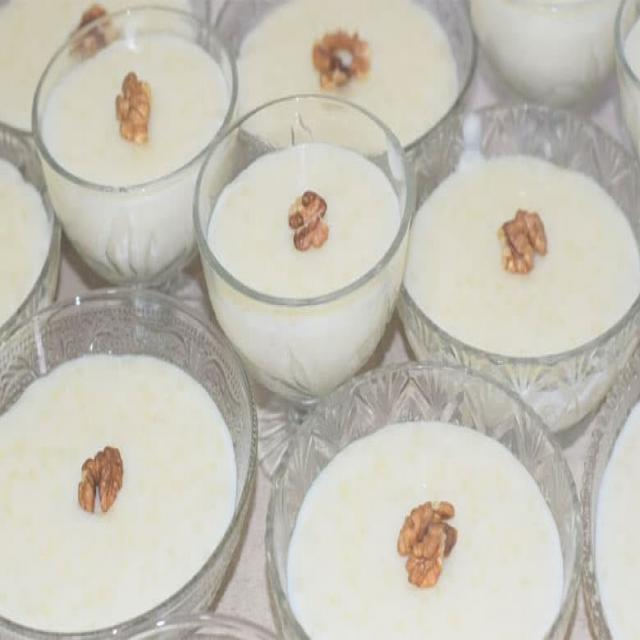roz blabn: (3, 344, 241, 632), (281, 407, 576, 639), (401, 153, 639, 377), (206, 120, 399, 353), (41, 29, 229, 231)
